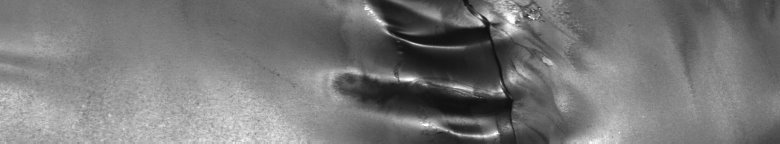ke: (330, 4, 554, 136)
